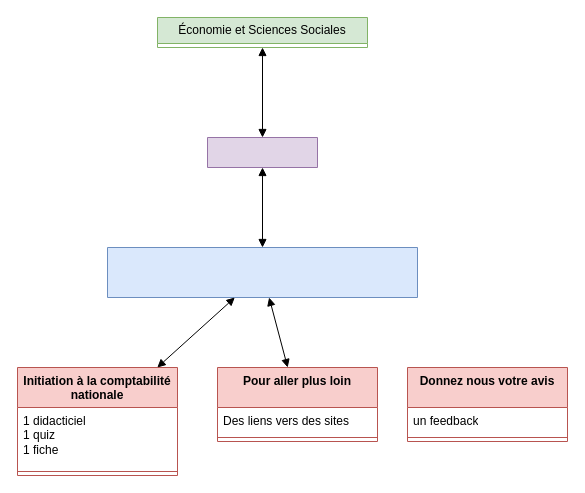
Image size: 585x493. Some labels were removed from this diagram. The box of each missing label's shape, as (x1, y1, x2, y2) in pixels:
Economie: (206, 136, 318, 168)
Faire ses premiers pas en macro-économie: (106, 246, 418, 298)
